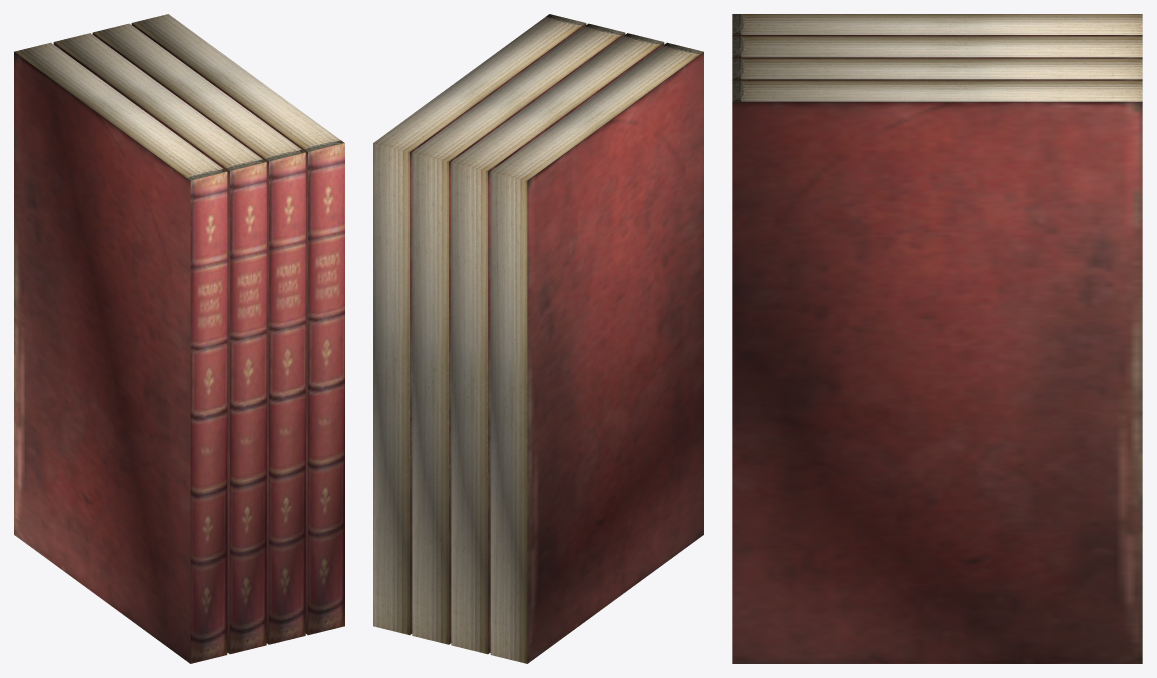
File: off_books2D.fbx
3 views of the same model, side by side, from view 1: azimuth 30°, elevation 25°; view 2: azimuth 150°, elevation 25°; view 3: azimuth 270°, elevation 25° (orthographic). The views are drawn at different scales.
Visible parts, largest first — view 1: Book12, Book13, Book14, Book15; view 2: Book12, Book13, Book14, Book15; view 3: Book15, Book12, Book13, Book14.
Part boxes in pixels (x1=…): Book12: x1=14, y1=42, x2=227, y2=663; Book13: x1=53, y1=33, x2=266, y2=654; Book14: x1=92, y1=23, x2=305, y2=644; Book15: x1=131, y1=14, x2=344, y2=635; Book12: x1=490, y1=42, x2=703, y2=663; Book13: x1=451, y1=33, x2=664, y2=654; Book14: x1=412, y1=23, x2=625, y2=644; Book15: x1=373, y1=14, x2=586, y2=635; Book15: x1=732, y1=80, x2=1142, y2=663; Book12: x1=732, y1=14, x2=1142, y2=36; Book13: x1=732, y1=36, x2=1142, y2=58; Book14: x1=732, y1=58, x2=1142, y2=80.
Bounding box in the file's own units: 0.2752 × 0.8232 × 0.5447.
